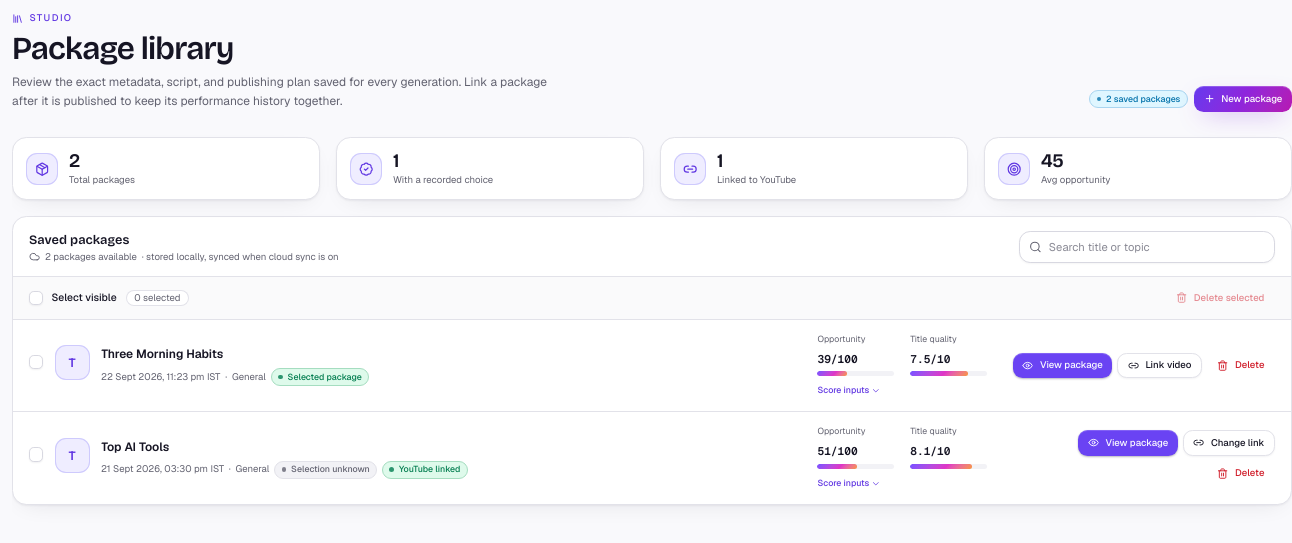
HistoryPage › shows a distinct empty state for a search with no matches
This screenshot has width=1292, height=543.
Expected: the button "Three Morning Habits" is shown, [101,345,223,363]
Type "zzzzz" into the search field named "Search saved packages" at {"x": 1147, "y": 247}, box [1019,231,1275,263]
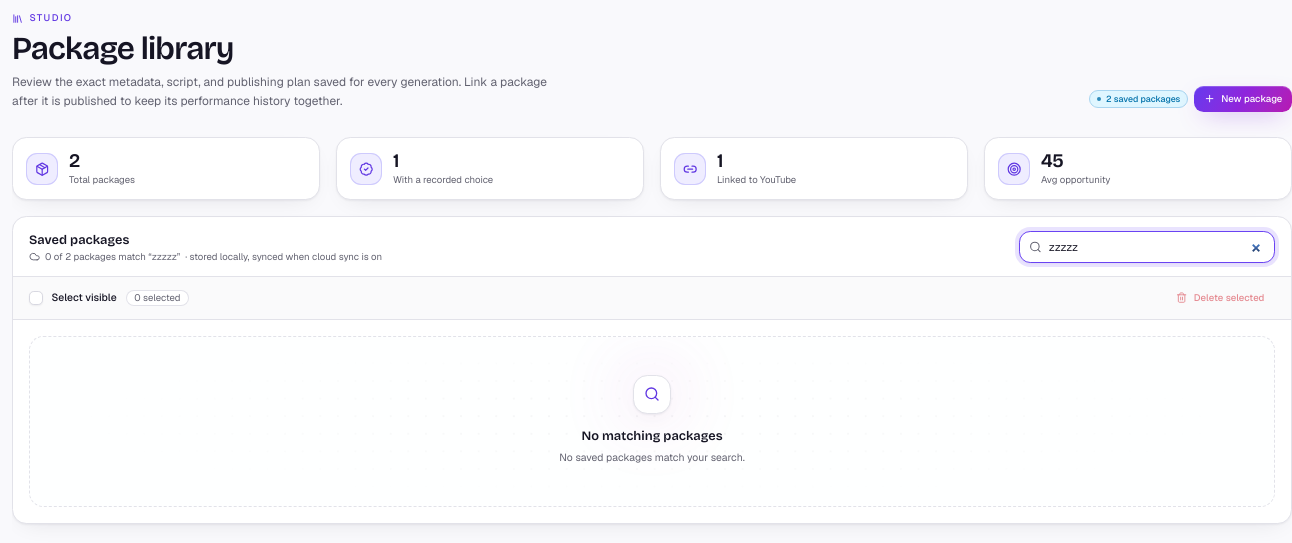
Expected: the text "No saved packages match your search." is shown, [559,450,745,467]
